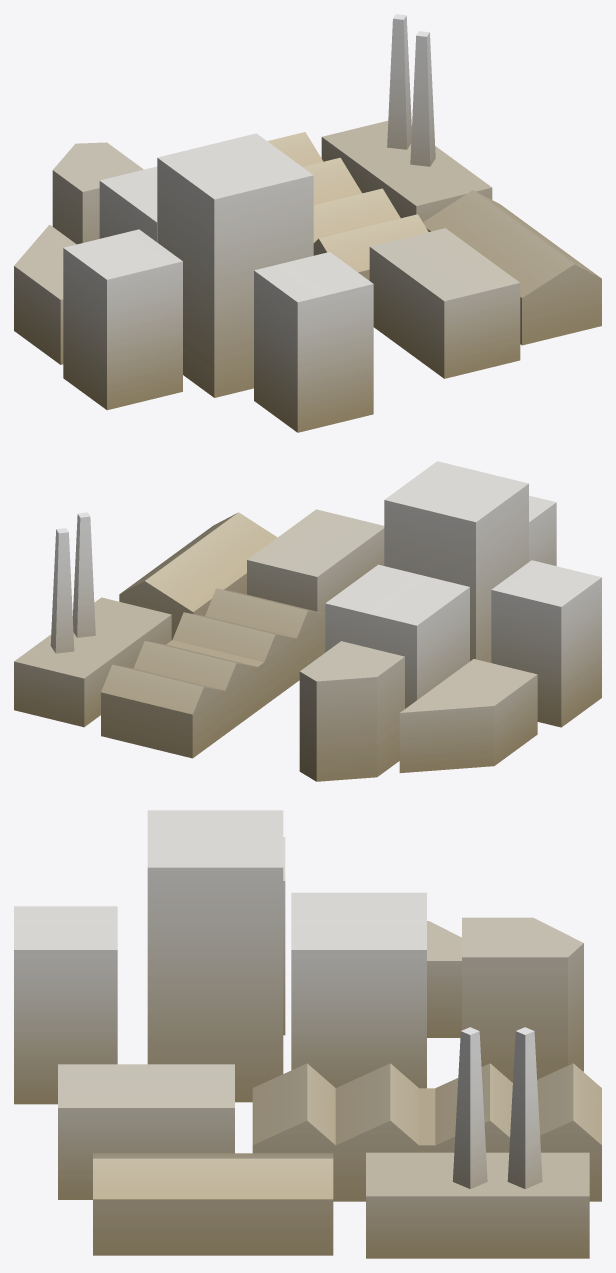
The model's file is SM_CitySelection_01.fbx.
3 renders of one model, top to bottom at view 1: azimuth 30°, elevation 25°; view 2: azimuth 150°, elevation 25°; view 3: azimuth 270°, elevation 25°, orthographic. The views are drawn at different scales.
Visible parts, largest first — view 1: SM_CitySelection_01; view 2: SM_CitySelection_01; view 3: SM_CitySelection_01.
Boxes of the visible parts, <box> form: SM_CitySelection_01: <box>14,14,601,432</box>; SM_CitySelection_01: <box>14,461,601,781</box>; SM_CitySelection_01: <box>14,810,601,1258</box>.
Size of the model in its own units: 1.46 by 0.6 by 1.36.
